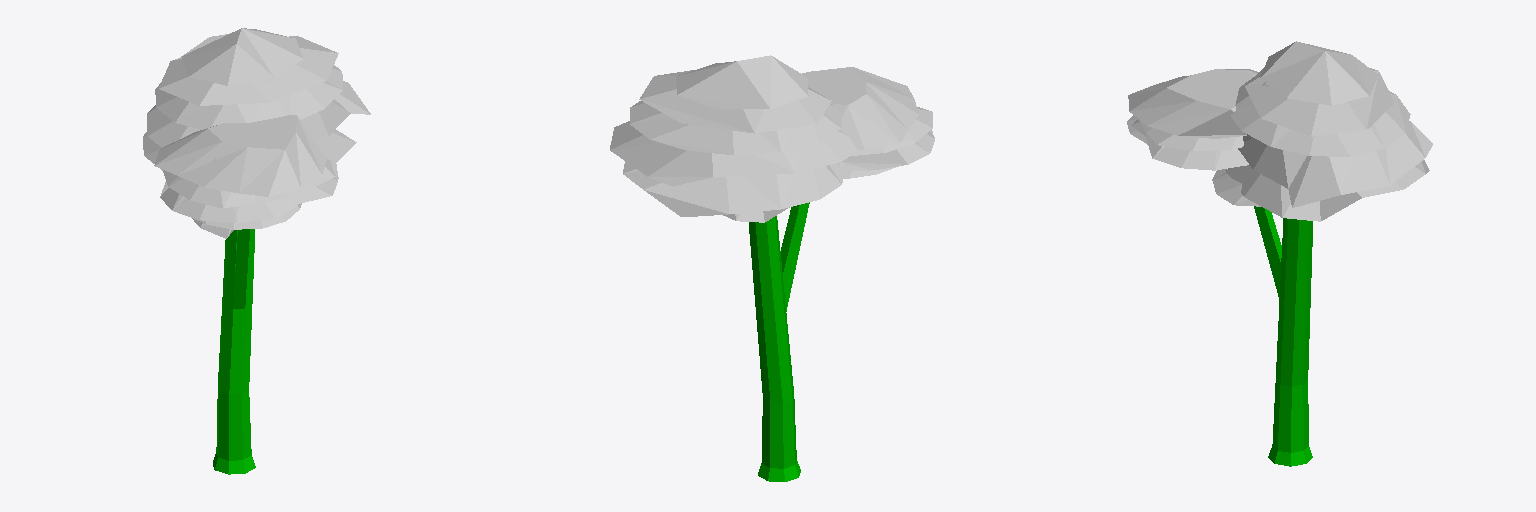
Rendered from WOH_Asset_Tree2.obj.
3 views of the same model, side by side, from view 1: azimuth 30°, elevation 25°; view 2: azimuth 150°, elevation 25°; view 3: azimuth 270°, elevation 25° (orthographic).
Parts seen in each view (by area): view 1: WOH_Asset_Tree2_Treemk2; view 2: WOH_Asset_Tree2_Treemk2; view 3: WOH_Asset_Tree2_Treemk2.
Boxes of the visible parts, x1=… form: WOH_Asset_Tree2_Treemk2: x1=143, y1=28, x2=370, y2=474; WOH_Asset_Tree2_Treemk2: x1=610, y1=55, x2=934, y2=481; WOH_Asset_Tree2_Treemk2: x1=1127, y1=41, x2=1432, y2=466.
Size of the model in its own units: 8.2 by 13.32 by 8.85.